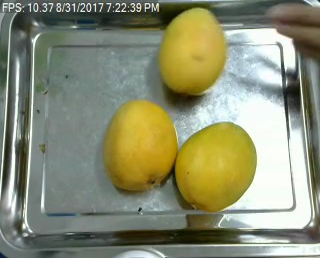Mango: (177, 120, 258, 212), (99, 98, 179, 190), (157, 6, 228, 96)
